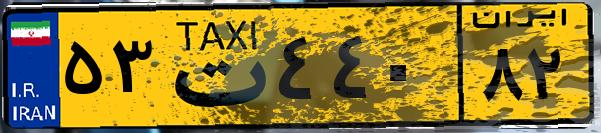0: (385, 28, 445, 110)
2: (525, 38, 570, 115)
3: (110, 28, 158, 98)
4: (270, 28, 330, 110), (330, 28, 385, 110)
5: (57, 26, 110, 100)
8: (475, 38, 525, 113)
ت: (158, 12, 270, 120)
